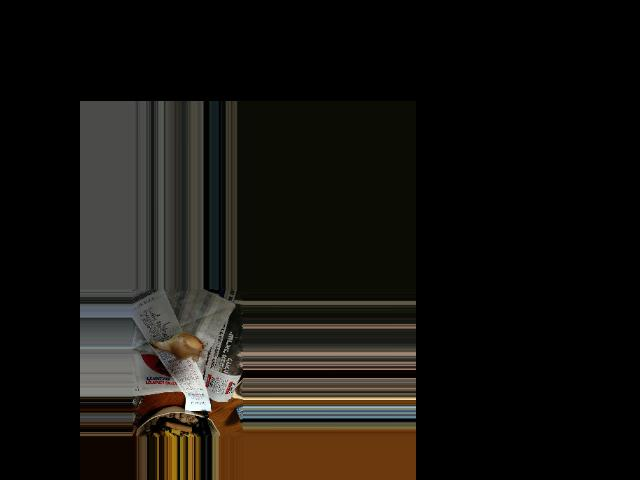onion: (155, 332, 203, 360)
